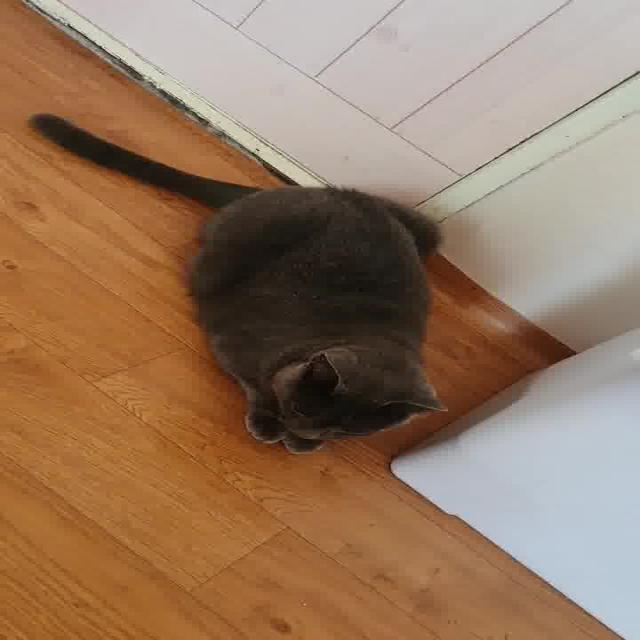cat: (24, 107, 486, 470)
